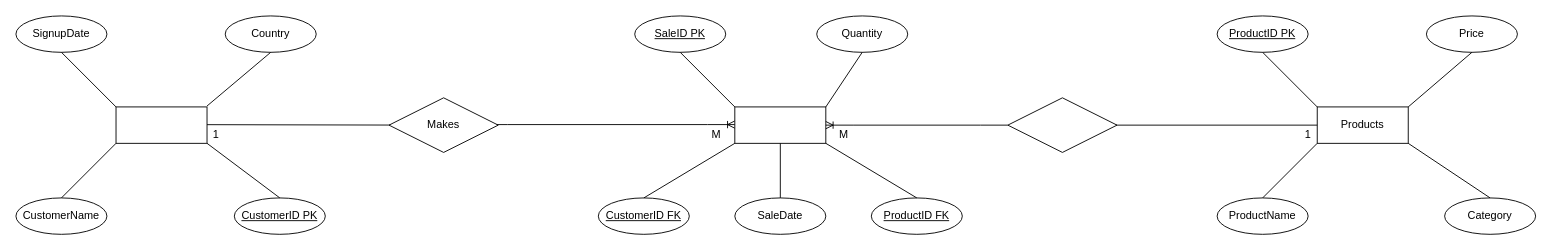
The diagram is 1552 pixels wide and 250 high, and some of its shapes have lost their labels. Here are the shapes that lost their labels. From the top down, the centre of each, then its label:
point (161, 124): Customers
point (780, 124): Sales
point (1062, 124): Contains
